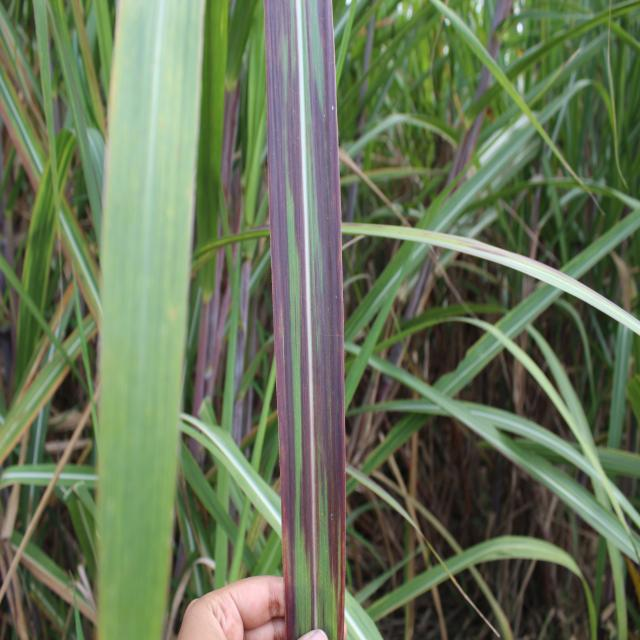Sugarcane: (92, 0, 202, 640), (259, 0, 349, 640), (342, 227, 640, 337)
